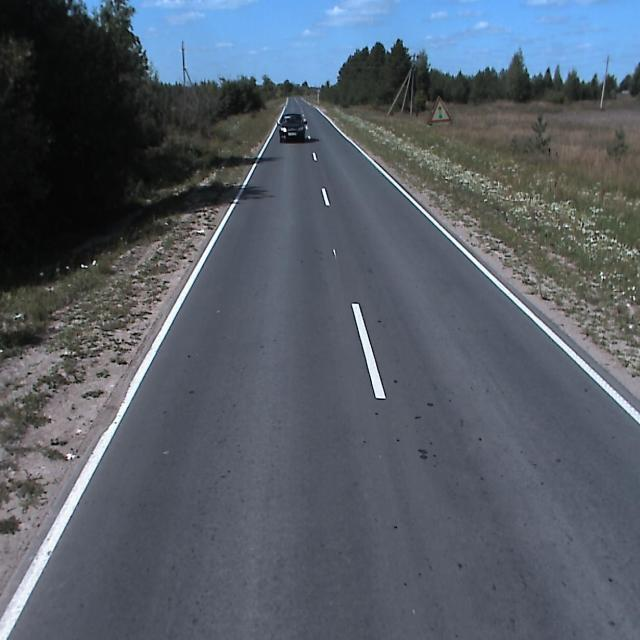road: (0, 94, 639, 639)
